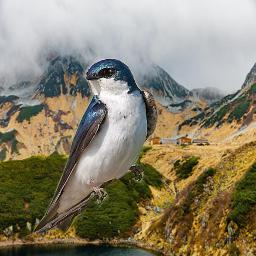Swallow: (33, 56, 158, 235)
